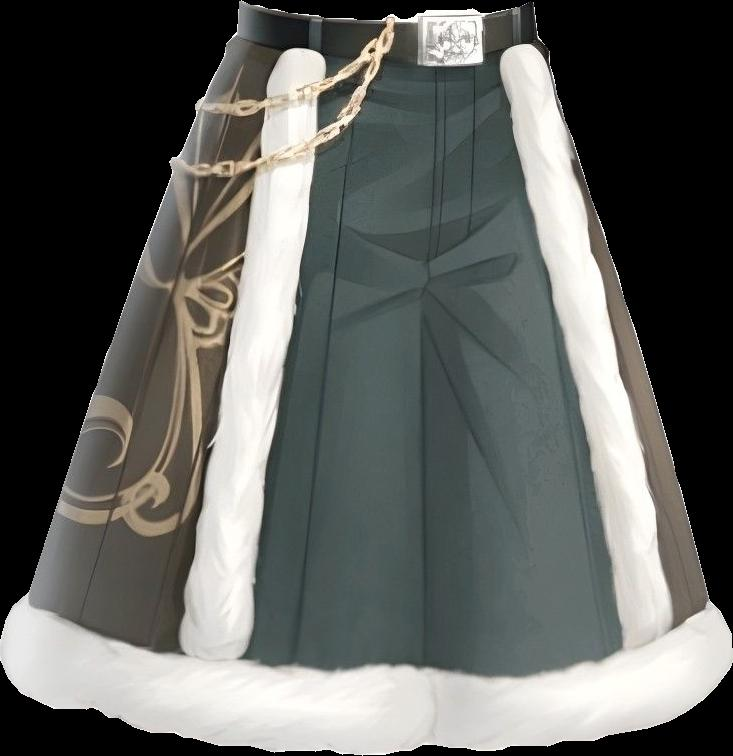Hemline: (0, 656, 434, 755), (425, 664, 732, 752)
Pantleg: (0, 1, 442, 753), (423, 1, 732, 750)
Waistline: (231, 29, 544, 71), (233, 0, 538, 28)
